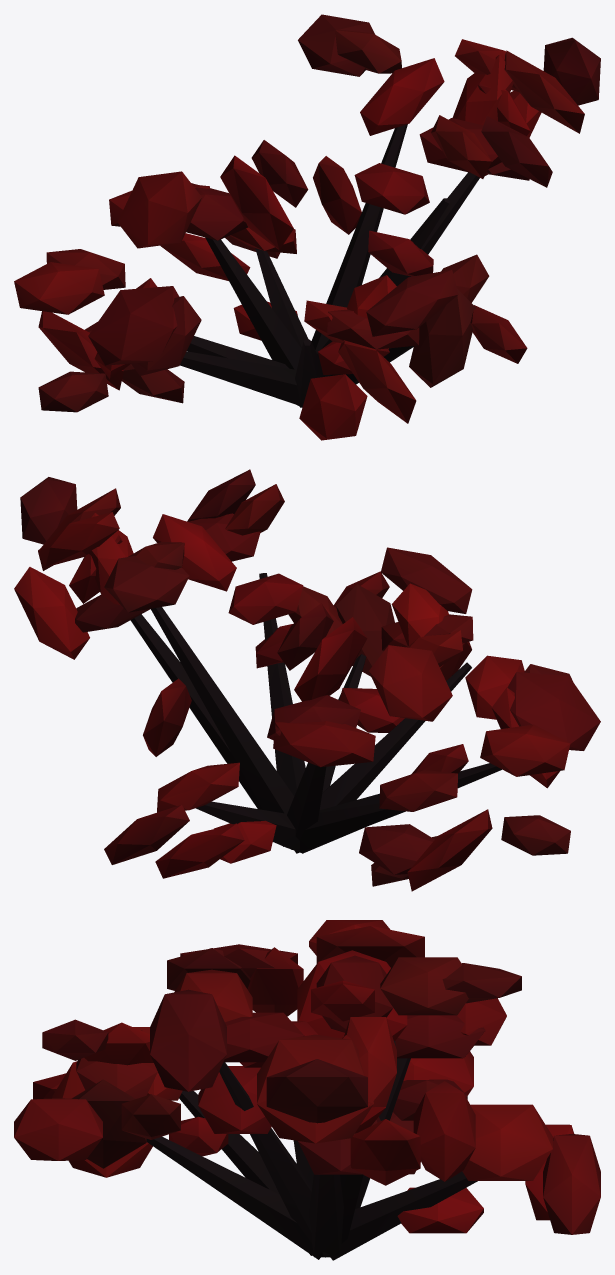
File: CrimsonBriar.fbx
The picture shows the model from 3 angles, top to bottom: view 1: azimuth 30°, elevation 25°; view 2: azimuth 150°, elevation 25°; view 3: azimuth 270°, elevation 25°; orthographic projection. The views are drawn at different scales.
Parts seen in each view (by area): view 1: RuinsPaint.RuinsPaint; view 2: RuinsPaint.RuinsPaint; view 3: RuinsPaint.RuinsPaint.
Part boxes in pixels (box(x1,y1,x2,y2)): RuinsPaint.RuinsPaint: box(14, 14, 600, 440); RuinsPaint.RuinsPaint: box(14, 469, 600, 891); RuinsPaint.RuinsPaint: box(14, 920, 600, 1260).
Bounding box in the file's own units: 2.12 × 1.15 × 1.78.
